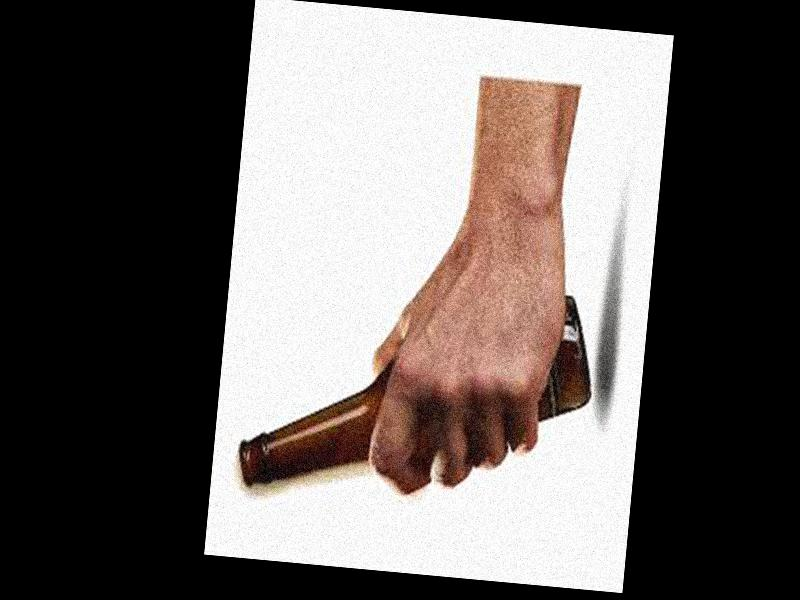Beer: (237, 267, 604, 518)
